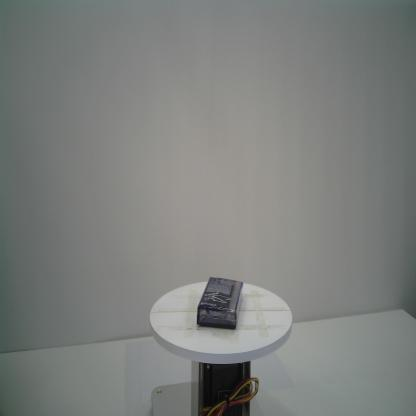Gum: (196, 278, 244, 330)
